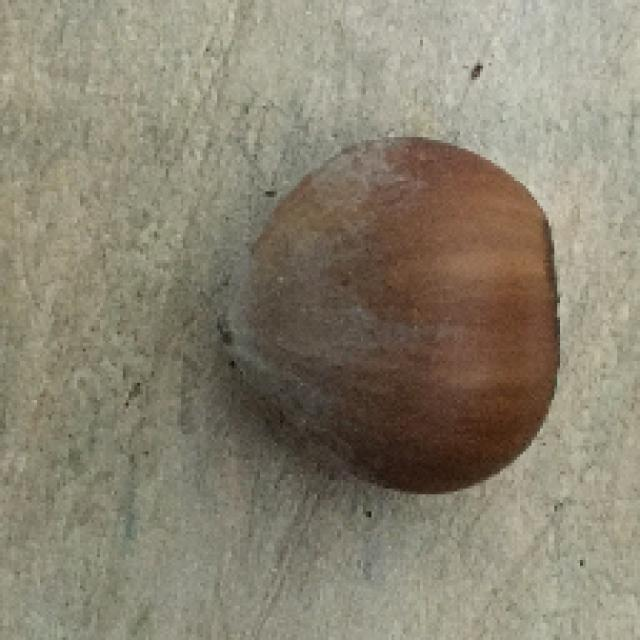qualityHazelnut: (218, 133, 560, 500)
